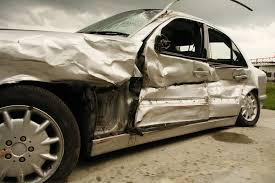doorouter-dent: (149, 33, 207, 121), (212, 61, 252, 120)
fender-dent: (4, 32, 130, 79)
